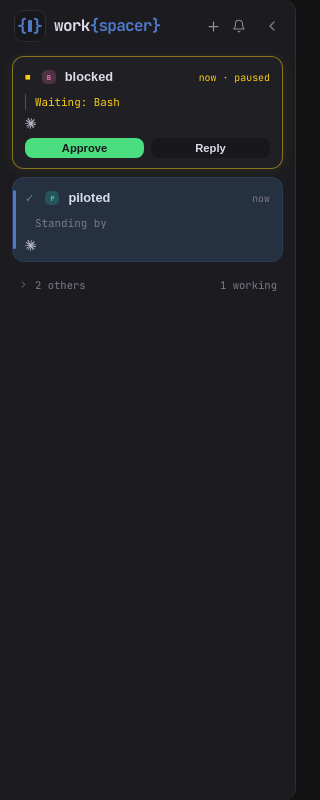
it: SideBar feed filter (focus mode) › reveals the quieted agents when the summary row is clicked
Step 1. Click the text "2 others" → click(60, 285), box 35,278 -> 86,292
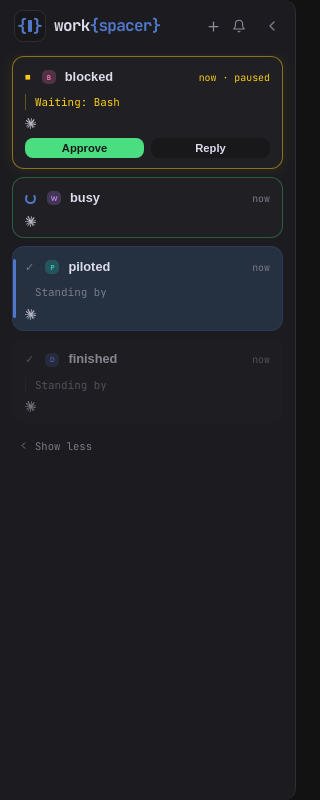
Expected: the text "busy" is shown, 70,190 -> 100,207
Expected: the text "finished" is shown, 68,351 -> 118,368
Expected: the button "2 others" is gone
